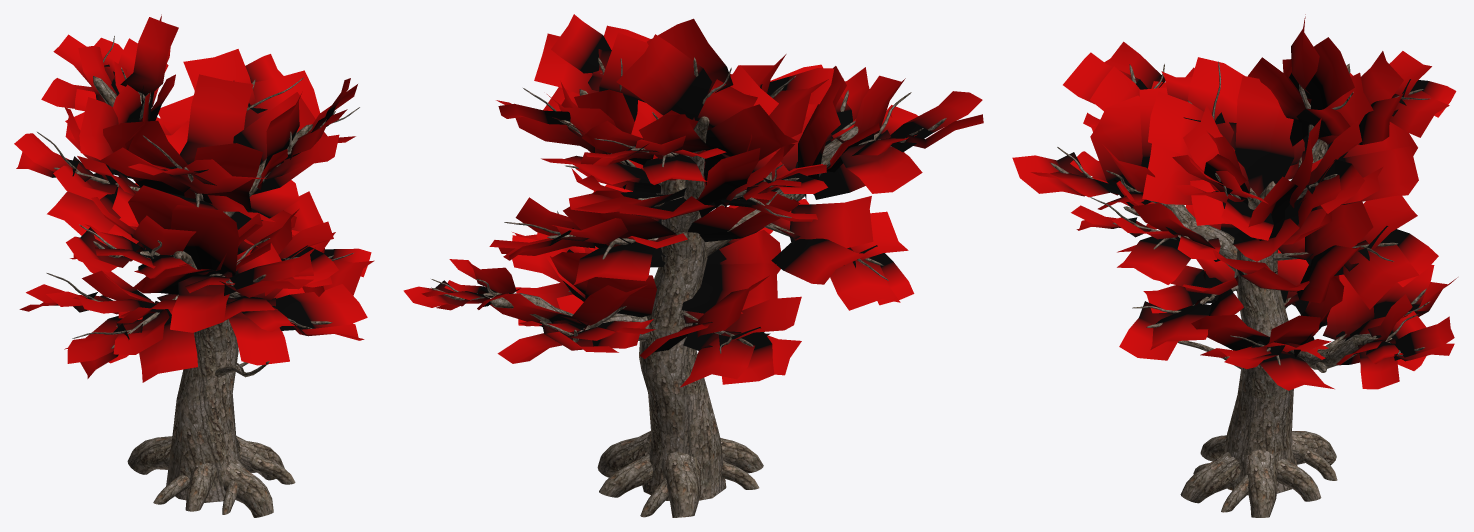
The model's file is SM_MediumOakGreen_1.fbx.
3 renders of one model, left to right at view 1: azimuth 30°, elevation 25°; view 2: azimuth 150°, elevation 25°; view 3: azimuth 270°, elevation 25°, orthographic. The views are drawn at different scales.
Visible parts, largest first — view 1: medOak_treeGreen_1; view 2: medOak_treeGreen_1; view 3: medOak_treeGreen_1.
Boxes of the visible parts, <box> form: medOak_treeGreen_1: <box>14,14,374,517</box>; medOak_treeGreen_1: <box>403,14,983,517</box>; medOak_treeGreen_1: <box>1012,14,1457,517</box>.
Size of the model in its own units: 7.8 by 9.35 by 8.2.
